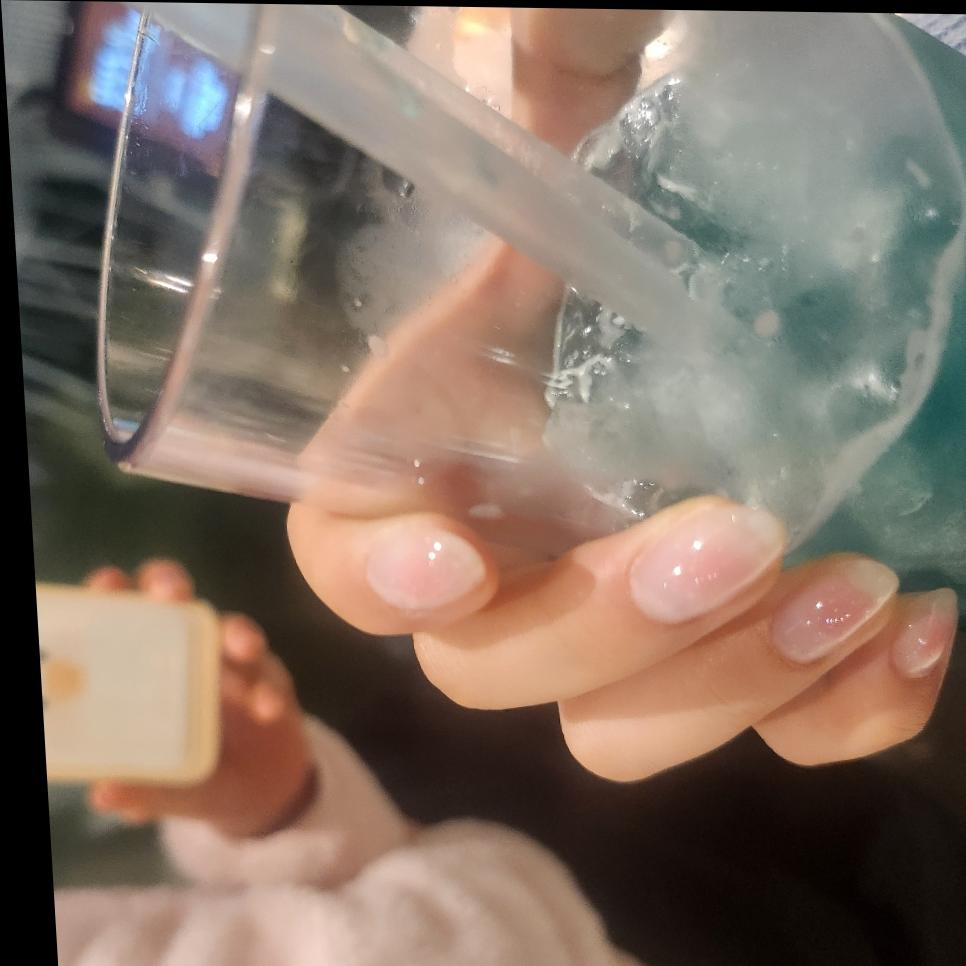nail: (355, 514, 495, 618)
